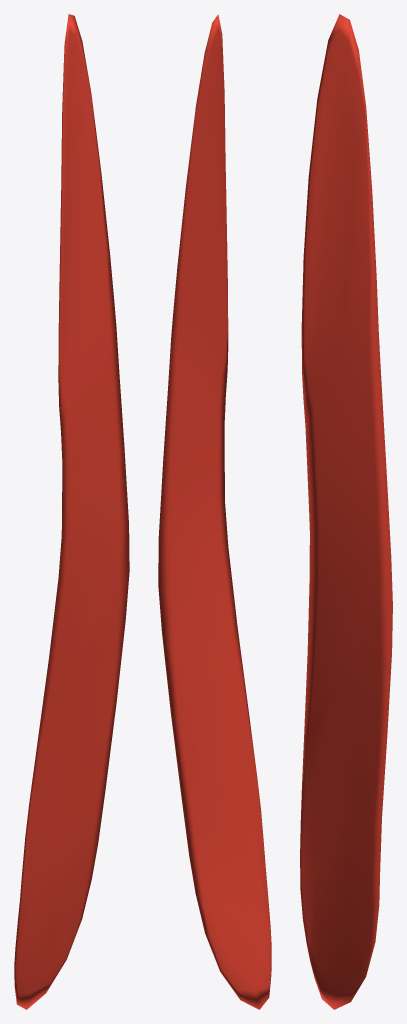
The model's file is Flexor_digitorum_longus_on_medial_third_of_post._tibial_sur_Gen.glb.
3 renders of one model, left to right at view 1: azimuth 30°, elevation 25°; view 2: azimuth 210°, elevation 25°; view 3: azimuth 330°, elevation 25°, orthographic. The views are drawn at different scales.
Visible parts, largest first — view 1: Flexor_digitorum_longus_on_medial_third_of_post._tibial_sur_; view 2: Flexor_digitorum_longus_on_medial_third_of_post._tibial_sur_; view 3: Flexor_digitorum_longus_on_medial_third_of_post._tibial_sur_.
Part boxes in pixels (<box>): Flexor_digitorum_longus_on_medial_third_of_post._tibial_sur_: <box>14,14,129,1009</box>; Flexor_digitorum_longus_on_medial_third_of_post._tibial_sur_: <box>158,14,271,1009</box>; Flexor_digitorum_longus_on_medial_third_of_post._tibial_sur_: <box>300,14,392,1009</box>.
Bounding box in the file's own units: 0.0146 × 0.1393 × 0.00808.
